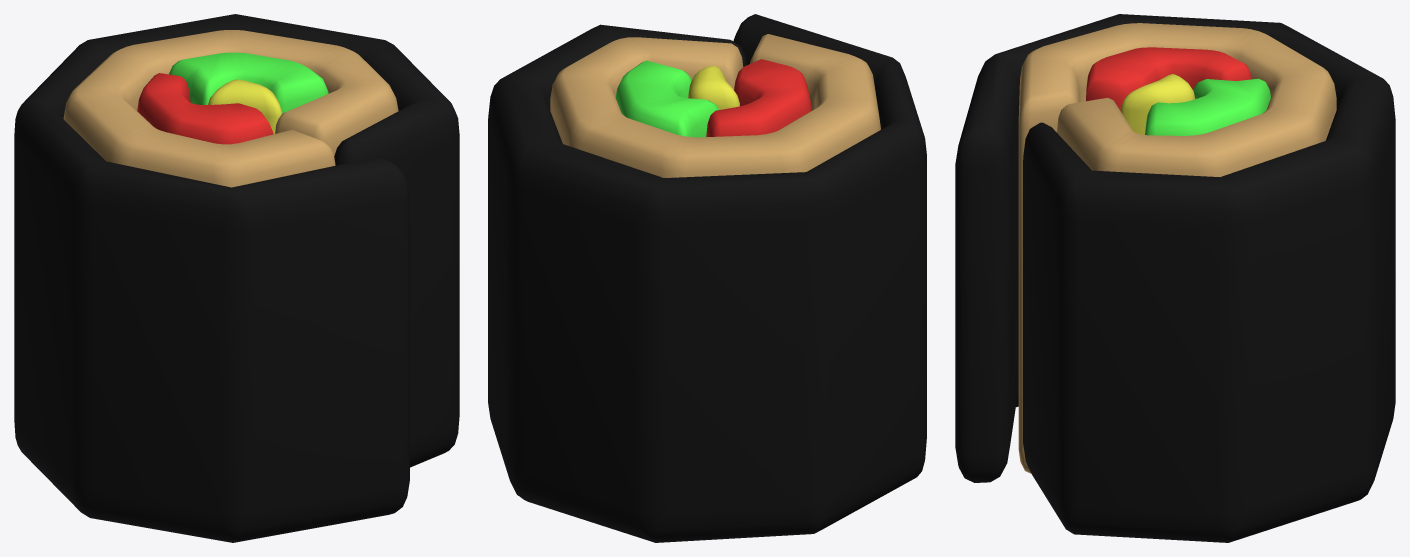
The model's file is Susi.fbx.
3 views of the same model, side by side, from view 1: azimuth 30°, elevation 25°; view 2: azimuth 150°, elevation 25°; view 3: azimuth 270°, elevation 25° (orthographic).
Parts seen in each view (by area): view 1: Susi; view 2: Susi; view 3: Susi.
Part boxes in pixels (x1,y1,x2,y2): Susi: (14, 14, 459, 542); Susi: (488, 14, 926, 542); Susi: (955, 14, 1395, 542).
Size of the model in its own units: 83.99 by 84.07 by 84.17.
